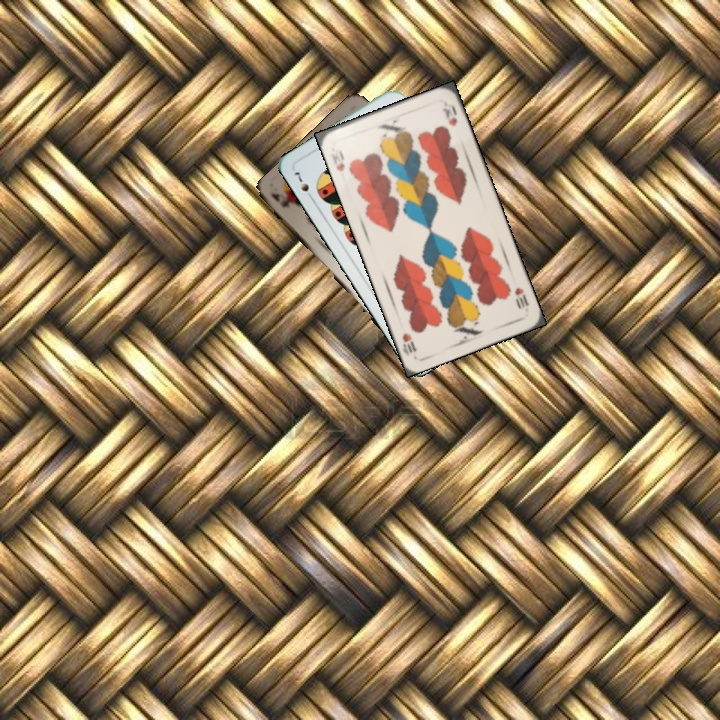H10: (511, 283, 531, 312), (328, 145, 347, 174)
S7: (290, 167, 316, 203)
SK: (267, 189, 293, 210)
